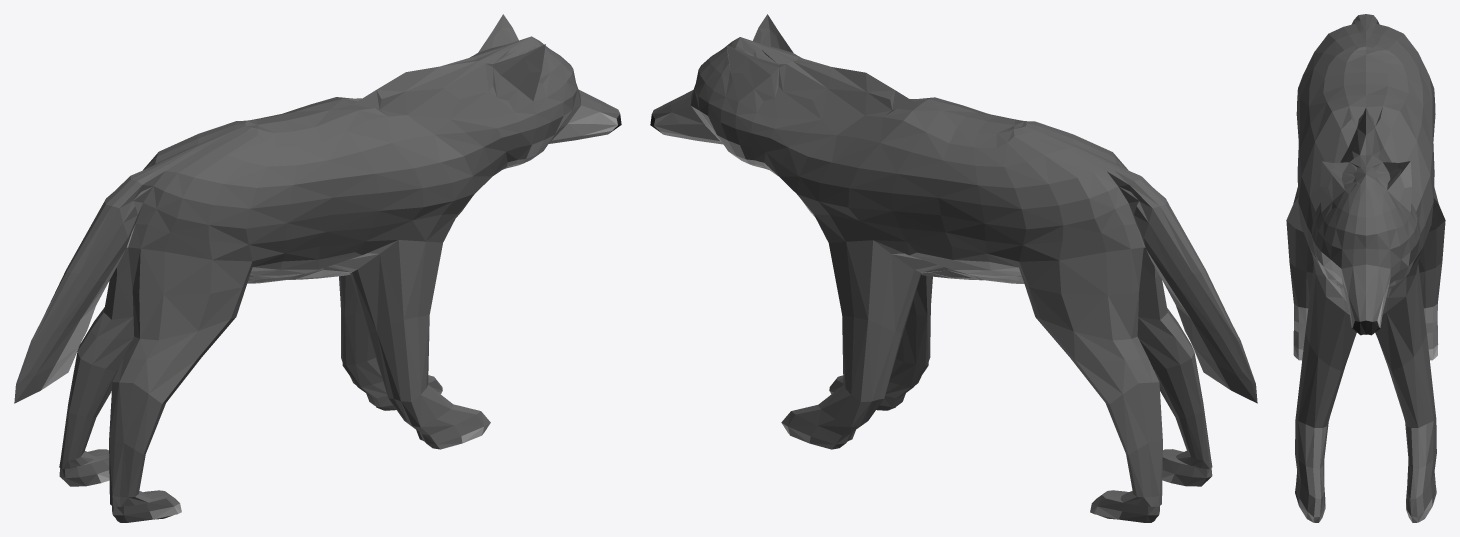
File: Wolf.FBX
3 views of the same model, side by side, from view 1: azimuth 30°, elevation 25°; view 2: azimuth 150°, elevation 25°; view 3: azimuth 270°, elevation 25° (orthographic). The views are drawn at different scales.
Visible parts, largest first — view 1: Wolf; view 2: Wolf; view 3: Wolf.
Boxes of the visible parts, x1,y1,x2,y2 form: Wolf: (14, 14, 621, 522); Wolf: (650, 14, 1257, 522); Wolf: (1286, 14, 1445, 522).
Bounding box in the file's own units: 1.57 × 0.9242 × 0.3338.
